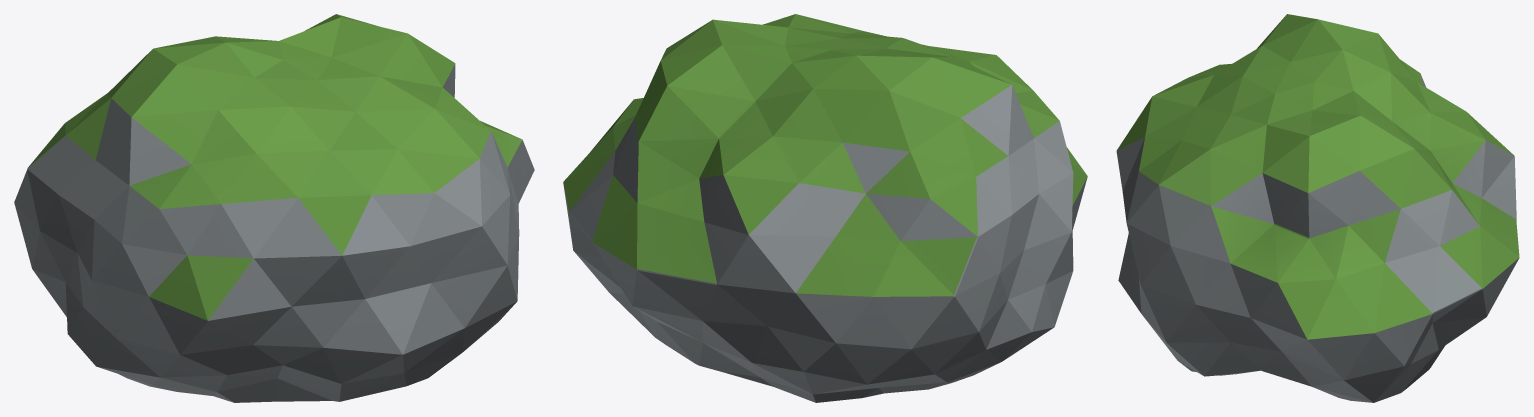
File: rock_mossy_a.glb
3 renders of one model, left to right at view 1: azimuth 30°, elevation 25°; view 2: azimuth 150°, elevation 25°; view 3: azimuth 270°, elevation 25°, orthographic. The views are drawn at different scales.
Size of the model in its own units: 2.06 by 1.3 by 1.73.
